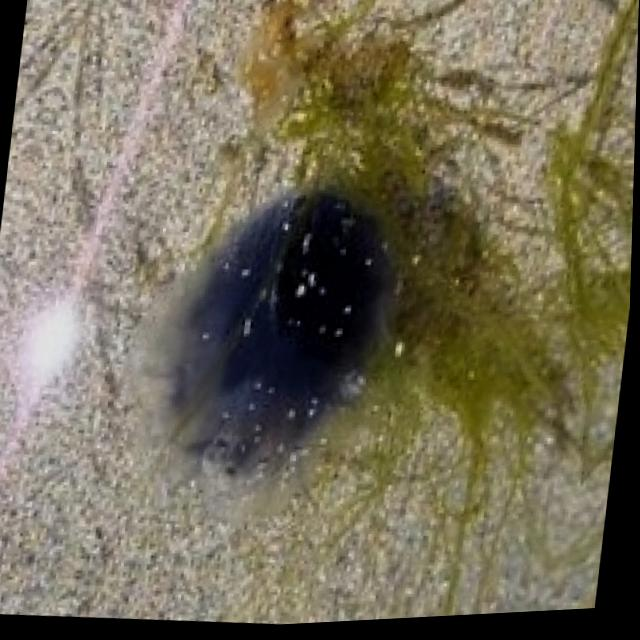Jellyfish: (132, 173, 416, 511)
